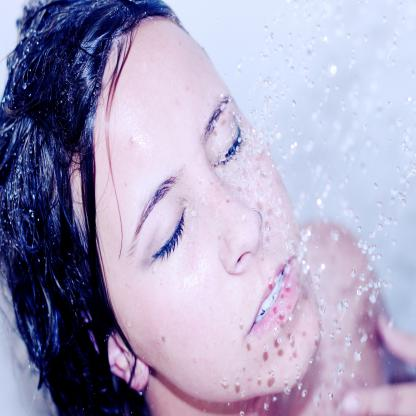Eye: (146, 201, 190, 268), (206, 112, 244, 176)
Mouth: (241, 257, 311, 341)
Nose: (199, 179, 263, 275)
